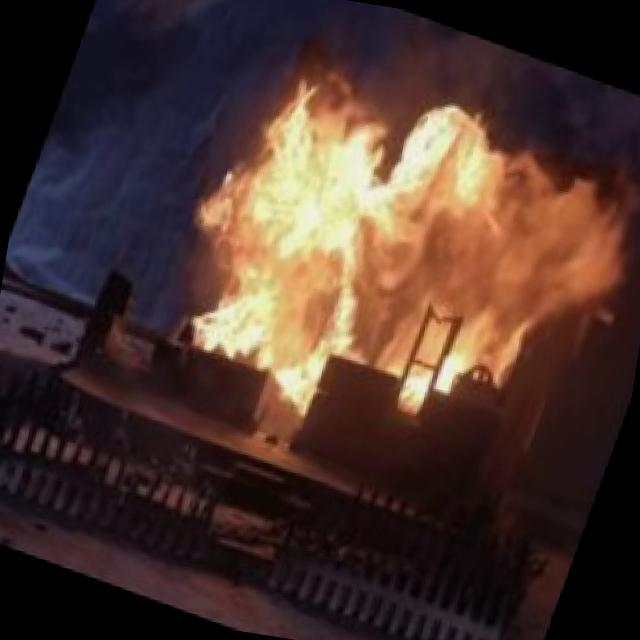fire: (119, 0, 640, 507)
